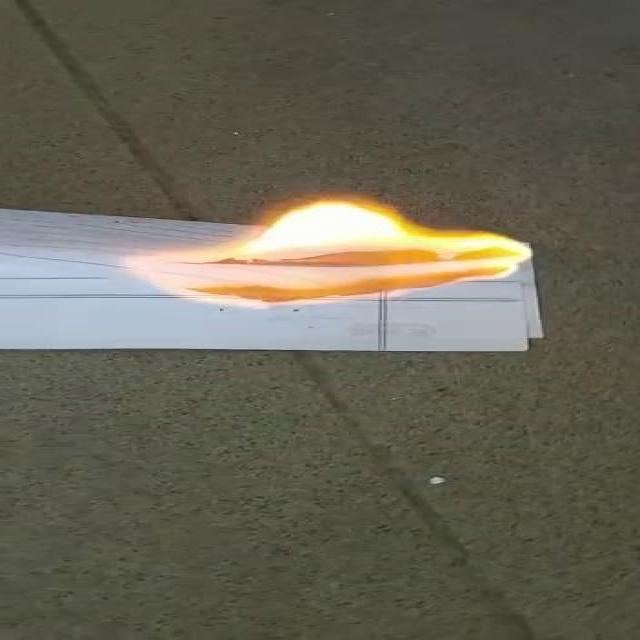Fire: (133, 189, 536, 313)
